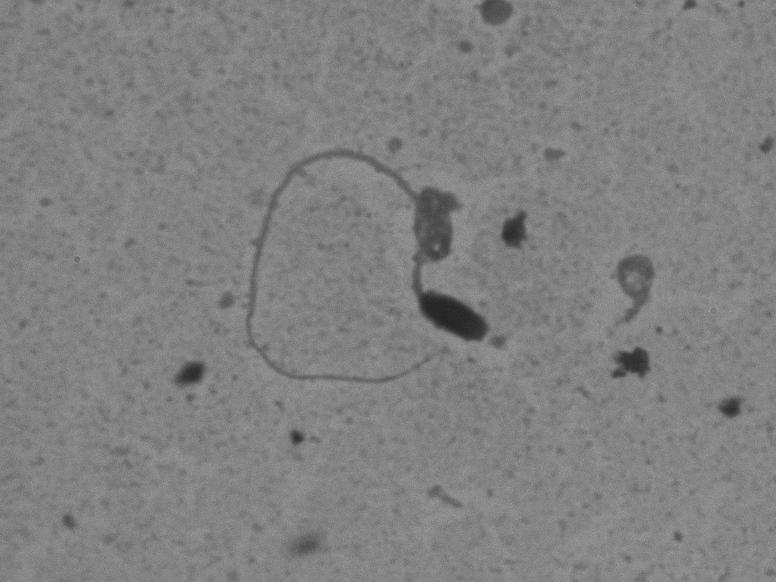Abnormal: (234, 131, 506, 415)
